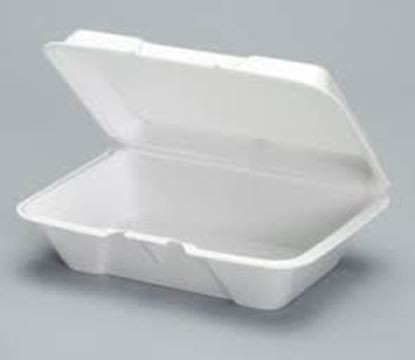Foam Box: (10, 20, 399, 312)
